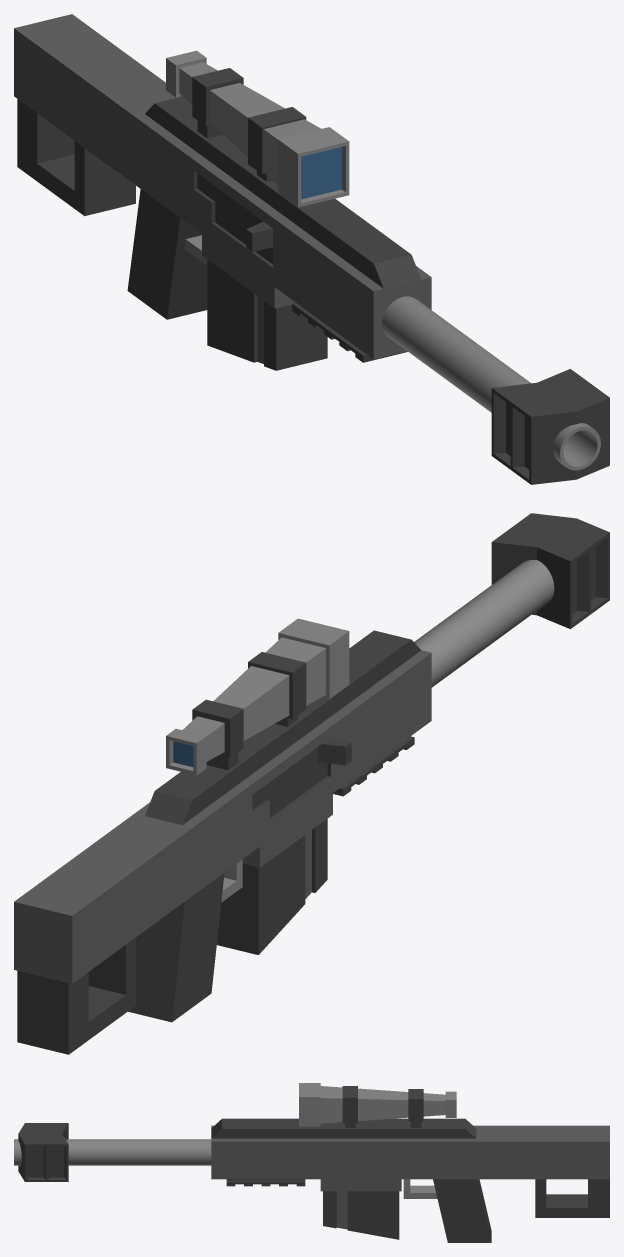
The model's file is sniper.fbx.
3 renders of one model, top to bottom at view 1: azimuth 30°, elevation 25°; view 2: azimuth 150°, elevation 25°; view 3: azimuth 270°, elevation 25°, orthographic. The views are drawn at different scales.
Visible parts, largest first — view 1: Mesh4_Group5 Group1 Model, Mesh2_Group3 Group1 Model, Mesh1_Group2 Group1 Model, Mesh3_Group4 Group1 Model; view 2: Mesh4_Group5 Group1 Model, Mesh2_Group3 Group1 Model, Mesh3_Group4 Group1 Model, Mesh1_Group2 Group1 Model; view 3: Mesh4_Group5 Group1 Model, Mesh2_Group3 Group1 Model, Mesh1_Group2 Group1 Model.
Part boxes in pixels (x1,y1,x2,y2): Mesh4_Group5 Group1 Model: (14, 14, 609, 484); Mesh2_Group3 Group1 Model: (207, 259, 327, 370); Mesh1_Group2 Group1 Model: (292, 302, 407, 362); Mesh3_Group4 Group1 Model: (246, 221, 272, 251); Mesh4_Group5 Group1 Model: (14, 513, 609, 1054); Mesh2_Group3 Group1 Model: (217, 819, 327, 954); Mesh3_Group4 Group1 Model: (317, 737, 351, 765); Mesh1_Group2 Group1 Model: (333, 736, 414, 796); Mesh4_Group5 Group1 Model: (14, 1083, 609, 1242); Mesh2_Group3 Group1 Model: (323, 1191, 399, 1239); Mesh1_Group2 Group1 Model: (226, 1179, 305, 1186).
Size of the model in its own units: 0.0156 by 0.0444 by 0.1632.
